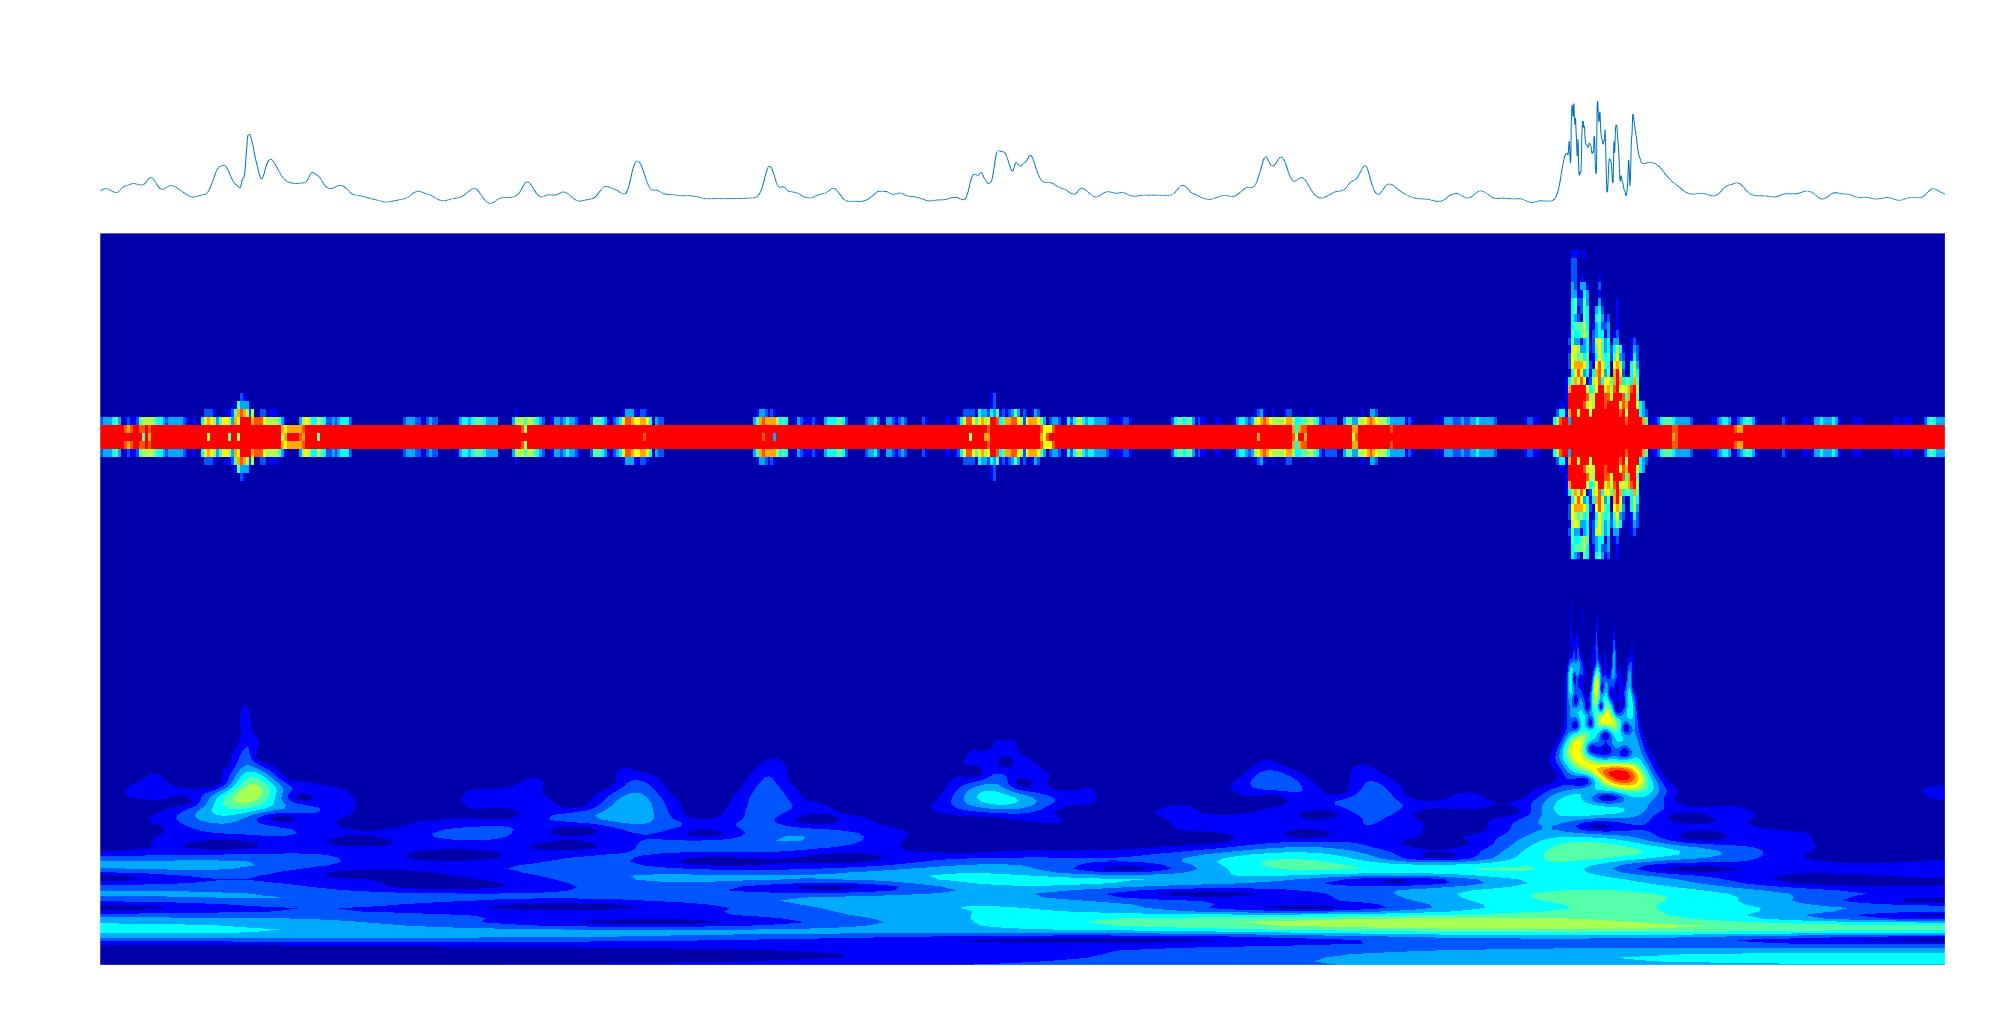TURBULENT: (1559, 232, 1644, 964)
